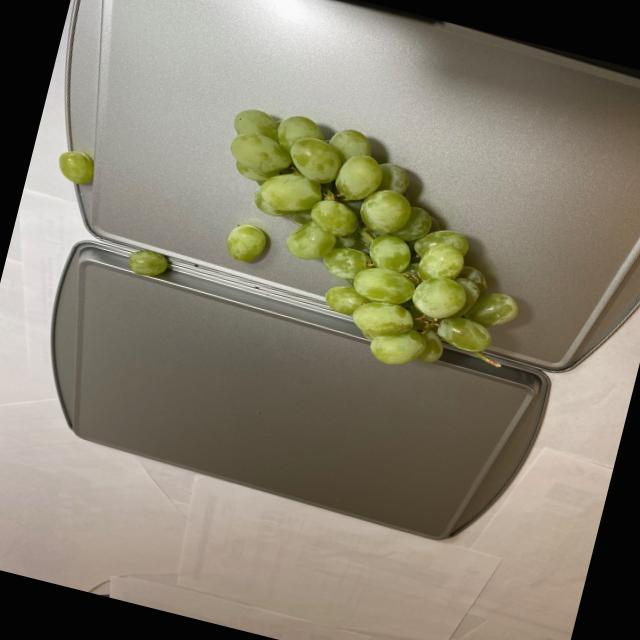grapes: (120, 80, 570, 392), (50, 134, 114, 196)
